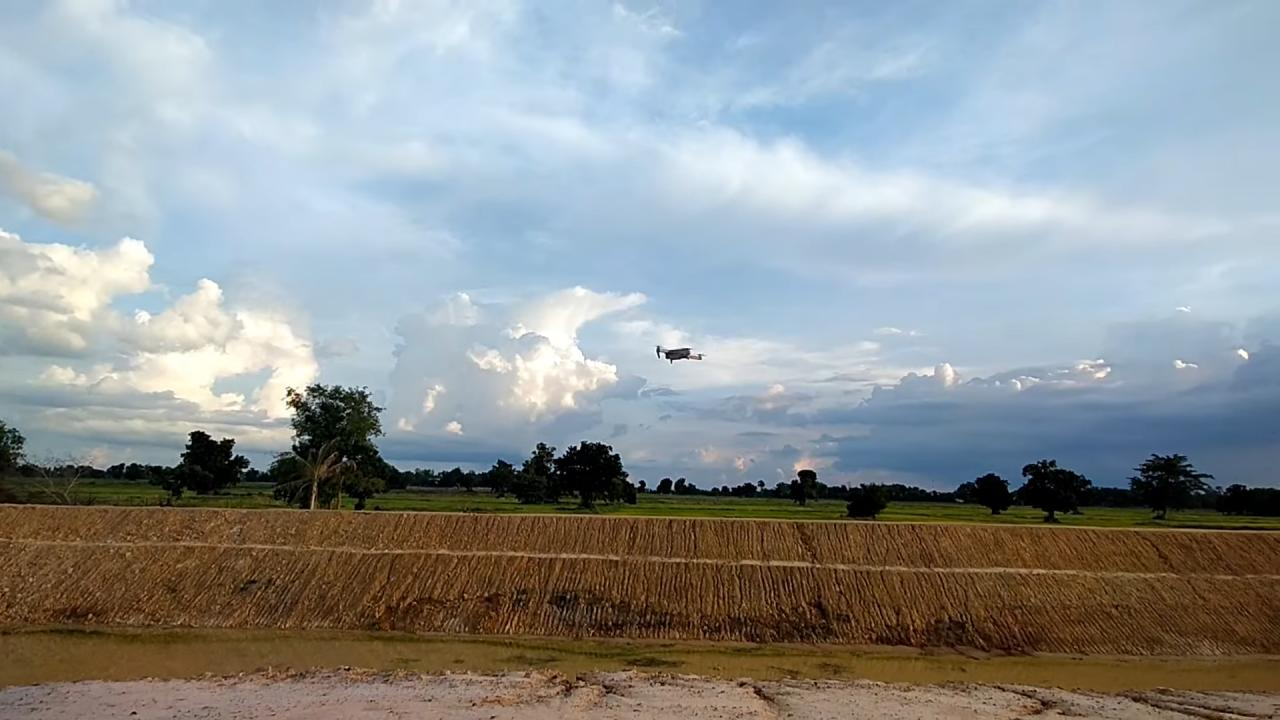Drone: (648, 336, 706, 368)
